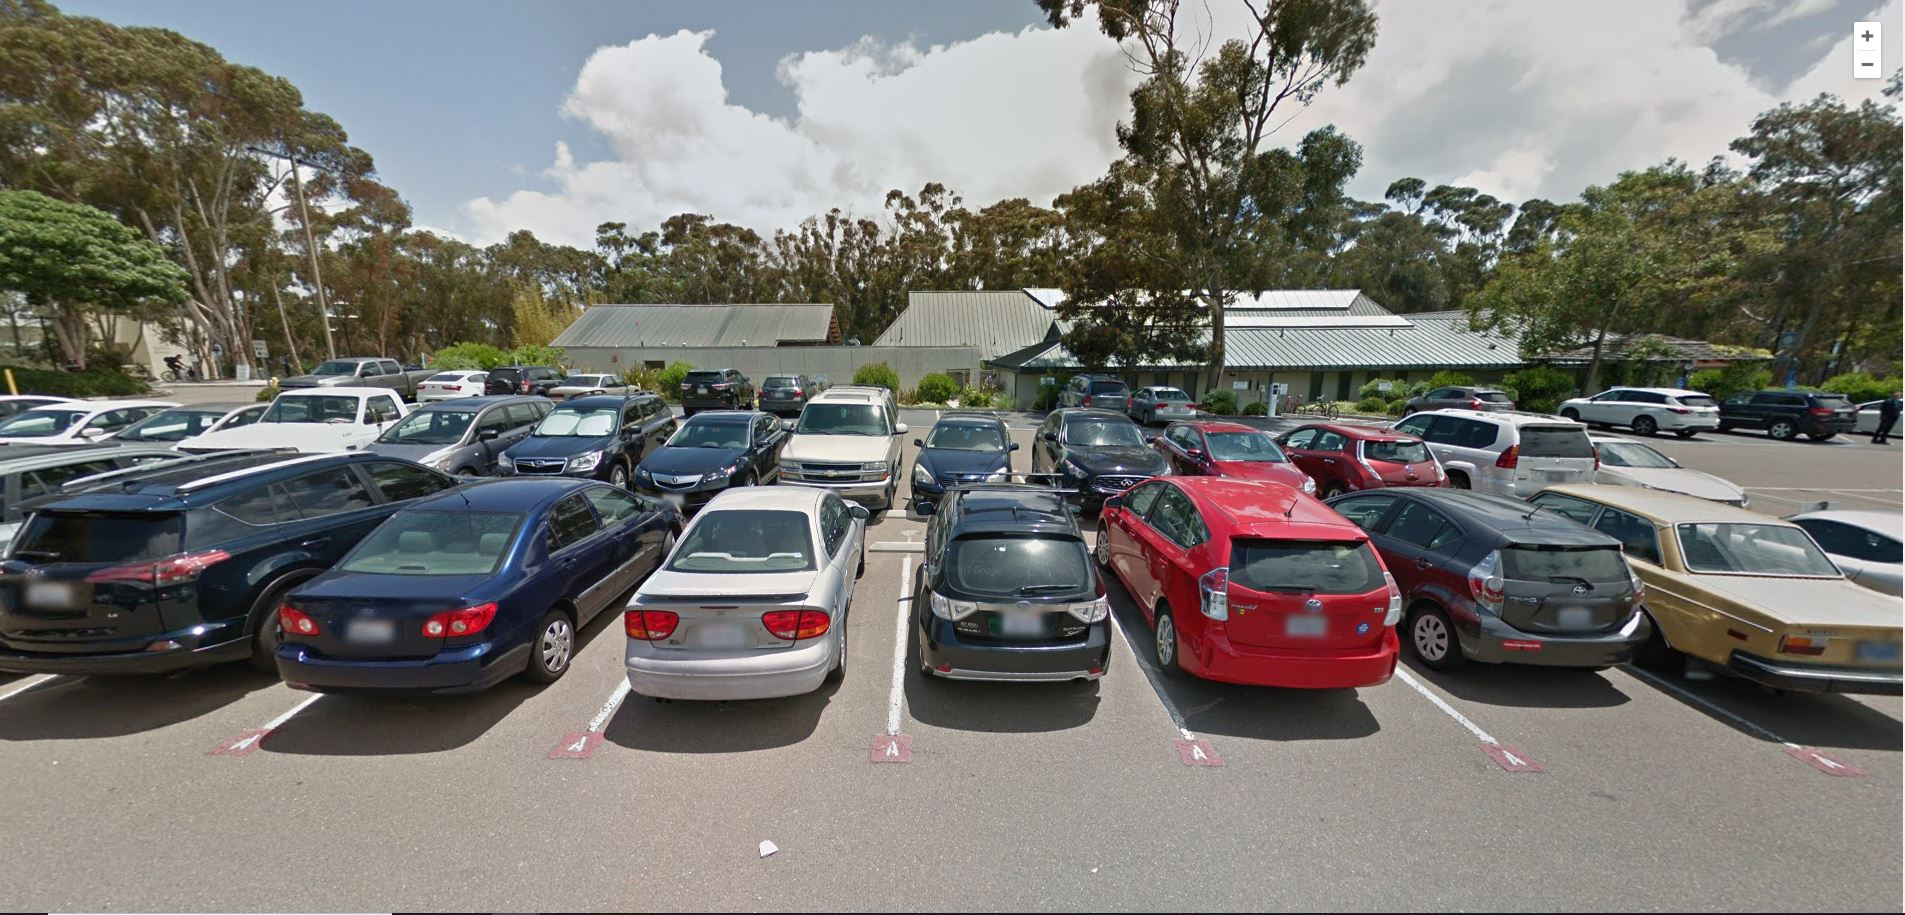car: (1, 445, 501, 687), (279, 474, 686, 715), (1533, 478, 1905, 724), (1330, 482, 1656, 725), (1096, 481, 1401, 708), (615, 482, 863, 711), (911, 478, 1120, 721), (1394, 400, 1618, 505), (1143, 411, 1319, 510), (631, 396, 788, 504), (1277, 414, 1452, 510), (375, 396, 566, 480), (776, 383, 900, 507), (247, 380, 443, 458), (505, 400, 678, 486), (1558, 369, 1715, 461), (1025, 401, 1169, 497), (909, 410, 1023, 516), (1720, 371, 1849, 457), (671, 354, 758, 425), (1053, 358, 1140, 430), (416, 350, 505, 400), (550, 365, 639, 410)
